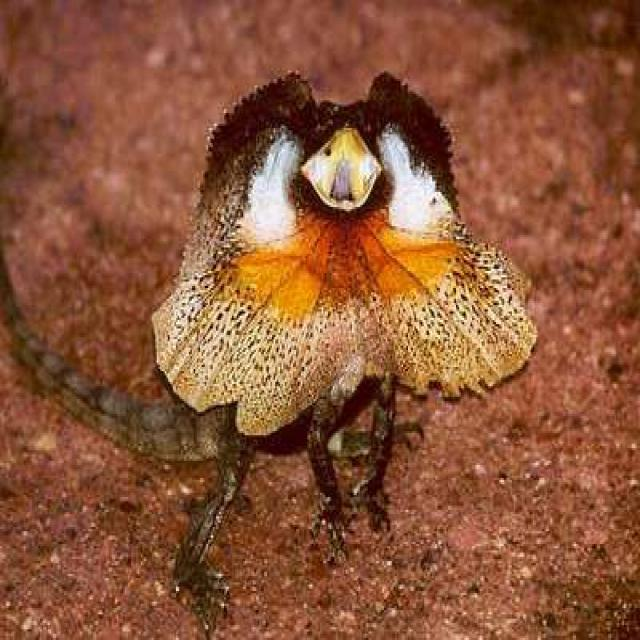lizard: (0, 73, 536, 625)
